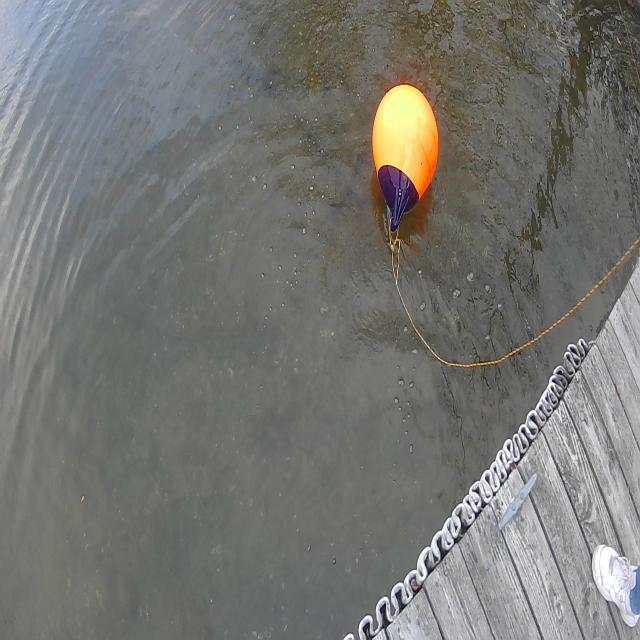Buoy: (367, 71, 444, 242)
